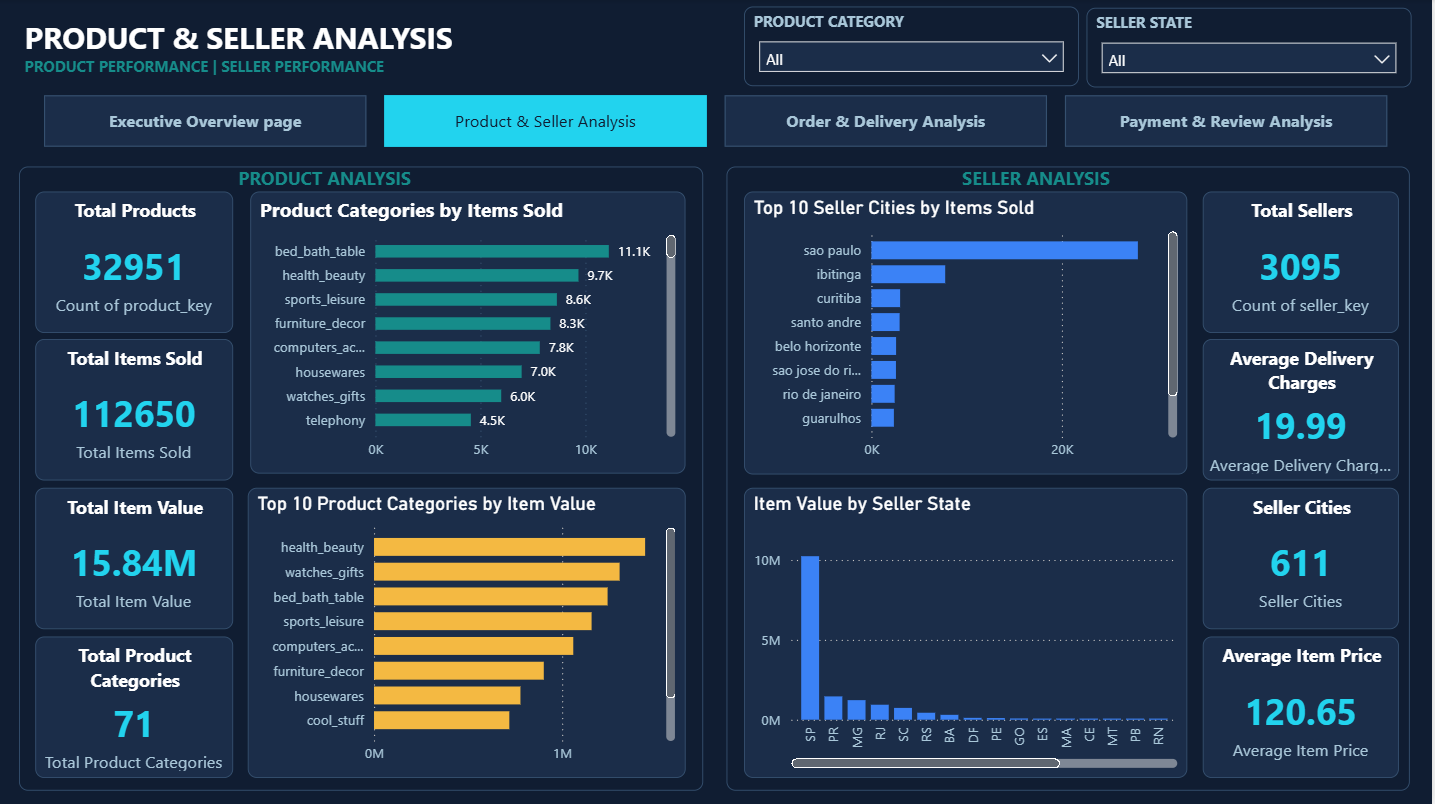

The page's visual inventory and layout, read from the dashboard file:
{"tool":"powerbi","page":{"name":"Product & Seller Analysis","canvas":[1280,720],"ordinal":1},"visuals":[{"type":"pageNavigator","box":[40,86.5,1201.5,46.5],"z":0},{"type":"textbox","box":[17.9,11.2,1241.7,63.6],"z":1000},{"type":"textbox","box":[18,149.6,610.9,558],"z":2000},{"type":"textbox","box":[650.2,149.6,610,558],"z":3000},{"type":"card","title":"Total Products","fields":{"Values":["Count(gold dim_products.product_key)"]},"box":[32.3,171.6,176.8,126.5],"z":4000},{"type":"card","title":"Total Product Categories","fields":{"Values":["measures_.Total Product Categories"]},"box":[32.3,569.1,176.8,126.5],"z":5000},{"type":"card","title":"Total Items Sold","fields":{"Values":["_Measures_.Total Items Sold"]},"box":[32.3,303.3,176.8,126.5],"z":6000},{"type":"card","title":"Total Item Value","fields":{"Values":["_Measures_.Total Item Value"]},"box":[32.3,436.2,176.8,126.5],"z":7000},{"type":"card","title":"Total Sellers","fields":{"Values":["CountNonNull(gold dim_sellers.seller_key)"]},"box":[1075.1,171.6,175.5,126.5],"z":8000},{"type":"card","title":"Average Item Price","fields":{"Values":["_Measures_.Average Item Price"]},"box":[1075.1,569.1,175.5,126.5],"z":9000},{"type":"card","title":"Average Delivery Charges","fields":{"Values":["measures_.Average Freight Value"]},"box":[1075.1,303.3,175.5,126.5],"z":10000},{"type":"card","title":"Seller Cities","fields":{"Values":["measures_.Seller Cities"]},"box":[1075.1,436.2,175.5,126.5],"z":11000},{"type":"clusteredBarChart","title":"Top 10 Product Categories by Items Sold","fields":{"Category":["gold dim_products.product_category_name_english"],"Y":["measures_.Total Items Sold"]},"box":[223.3,171.6,389.8,253],"z":12000},{"type":"textbox","box":[209.1,144.5,194.9,34.8],"z":13000},{"type":"textbox","box":[855.7,144.5,171.6,34.8],"z":14000},{"type":"clusteredBarChart","title":"Top 10 Product Categories by Item Value","fields":{"Category":["gold dim_products.product_category_name_english"],"Y":["measures_.Total Item Value"]},"box":[222,436.2,391,259.4],"z":15000},{"type":"clusteredBarChart","title":"Top 10 Seller Cities by Items Sold","fields":{"Category":["gold dim_sellers.seller_city"],"Y":["measures_.Total Items Sold"]},"box":[665.9,171.6,396.2,253],"z":16000},{"type":"clusteredColumnChart","title":"Item Value by Seller State","fields":{"Category":["gold dim_sellers.seller_state"],"Y":["measures_.Total Item Value"]},"box":[665.9,436.2,396.2,259.4],"z":17000}]}

Visuals, with their boxes in screenshot pixels (x1, y1, x2, y2), scaled from the page's 1280x720 canvas onto the 1435x804 screenshot:
pageNavigator: box(45, 97, 1392, 149)
textbox: box(20, 13, 1412, 84)
textbox: box(20, 167, 705, 790)
textbox: box(729, 167, 1413, 790)
"Total Products" card: box(36, 192, 234, 333)
"Total Product Categories" card: box(36, 635, 234, 777)
"Total Items Sold" card: box(36, 339, 234, 480)
"Total Item Value" card: box(36, 487, 234, 628)
"Total Sellers" card: box(1205, 192, 1402, 333)
"Average Item Price" card: box(1205, 635, 1402, 777)
"Average Delivery Charges" card: box(1205, 339, 1402, 480)
"Seller Cities" card: box(1205, 487, 1402, 628)
"Top 10 Product Categories by Items Sold" clusteredBarChart: box(250, 192, 687, 474)
textbox: box(234, 161, 453, 200)
textbox: box(959, 161, 1152, 200)
"Top 10 Product Categories by Item Value" clusteredBarChart: box(249, 487, 687, 777)
"Top 10 Seller Cities by Items Sold" clusteredBarChart: box(747, 192, 1191, 474)
"Item Value by Seller State" clusteredColumnChart: box(747, 487, 1191, 777)
